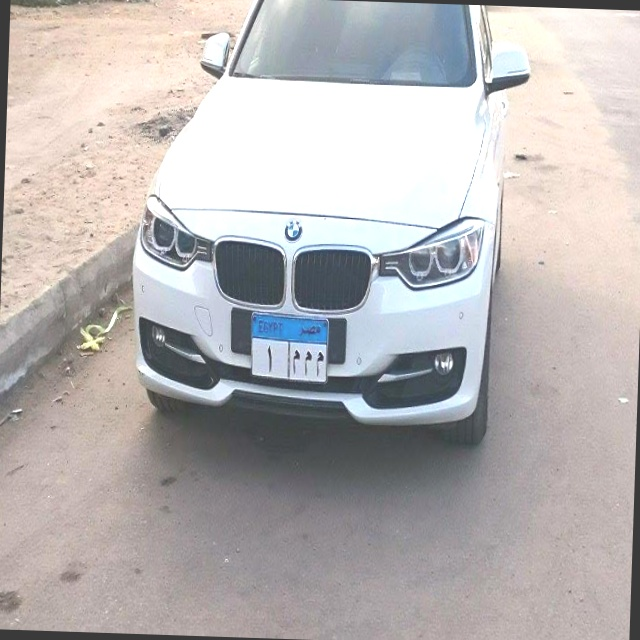License Plate: (249, 309, 332, 384)
